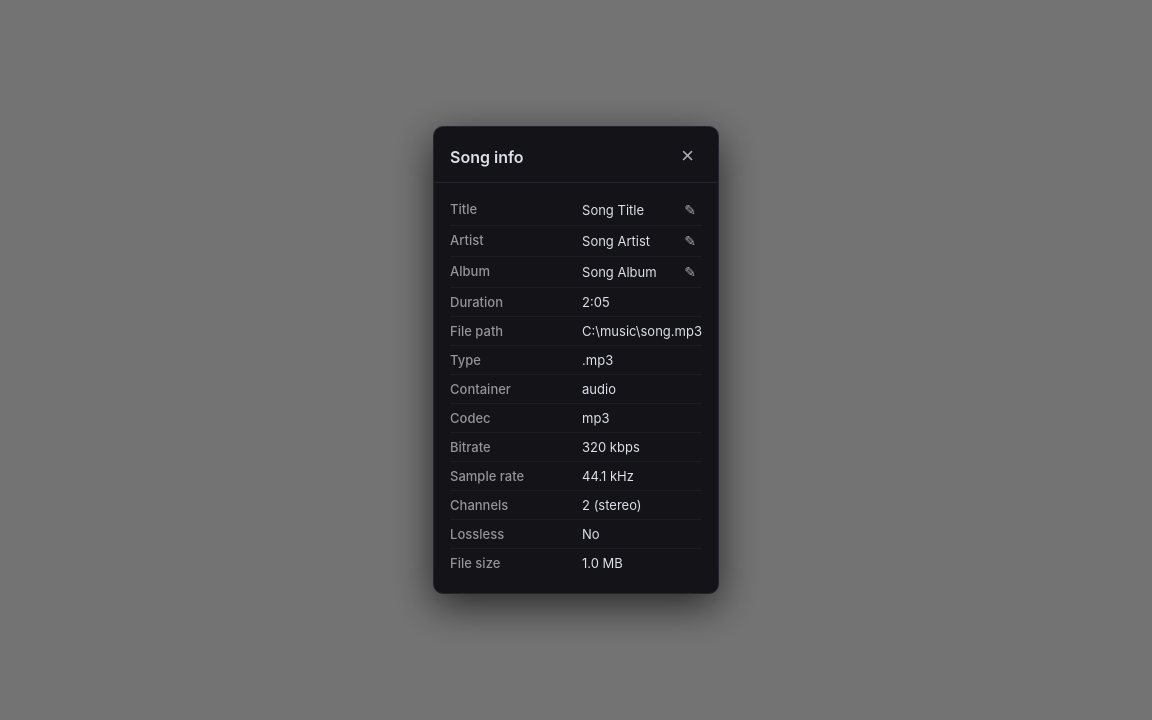
Scenario: <SongInfoDialog /> › lets you enter and exit edit mode for Title
Click the button named "Edit Title": point(690, 210) [678,201,702,219]
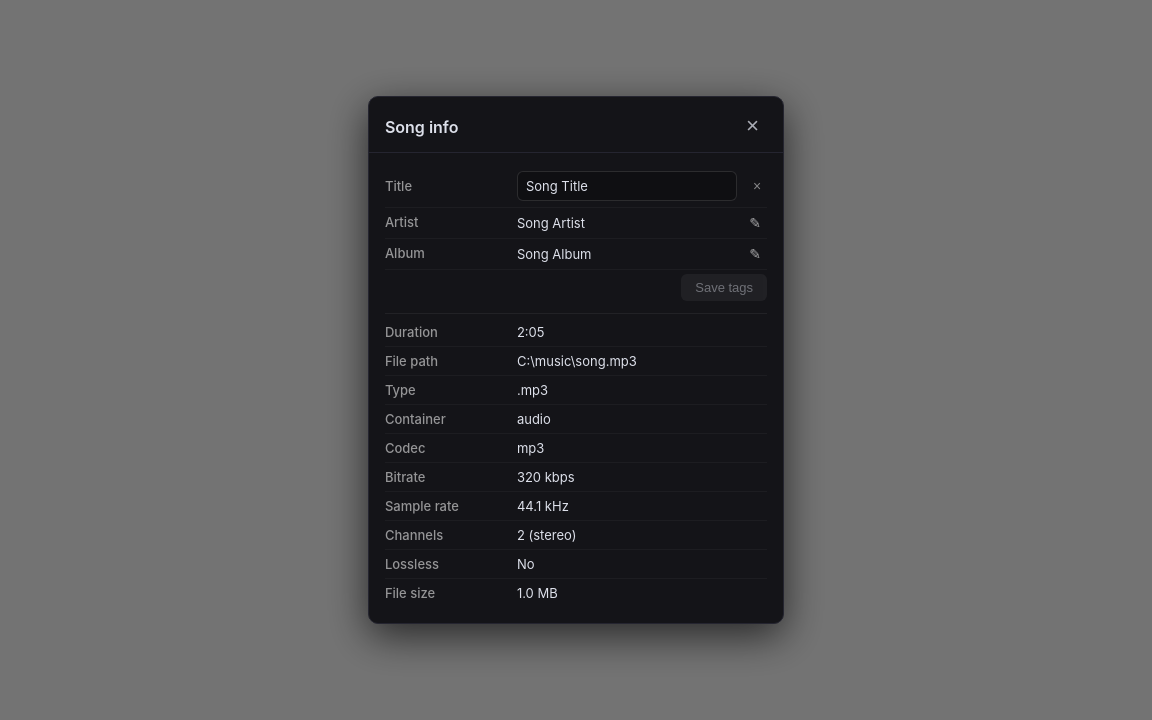
Expected: the field showing "Song Title" is shown, [517,171,737,201]
Expected: the button "Save tags" is shown, [681,274,767,301]
Click the button named "Stop editing Title": point(757, 186) [747,177,767,195]
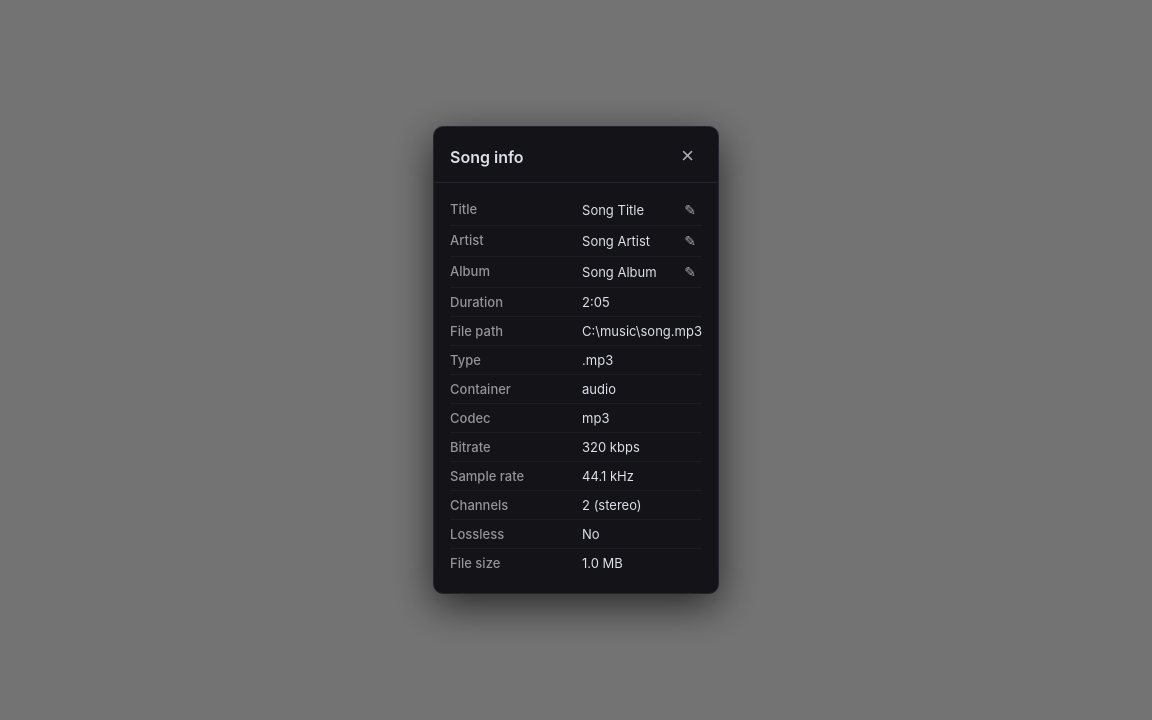
Expected: the button "Save tags" is gone
Expected: the button named "Edit Title" is shown, [678,201,702,219]
